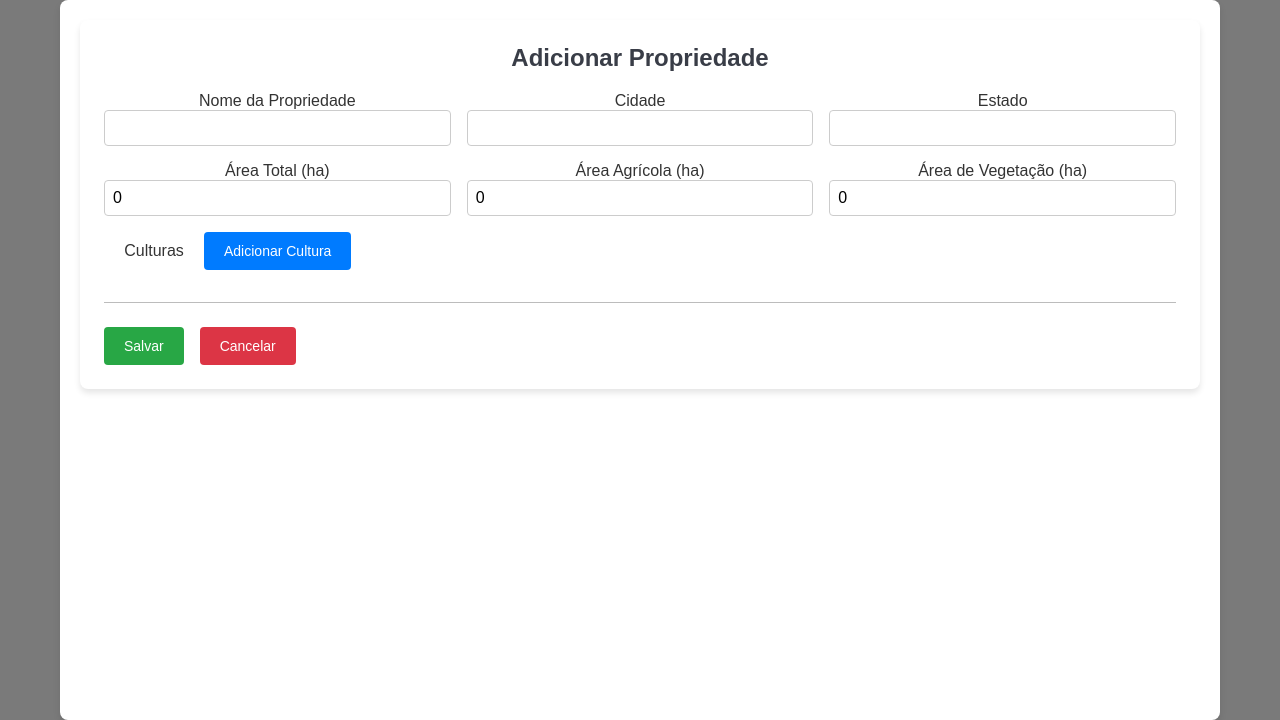
Scenario: ModalAddProperty › deve permitir editar uma cultura na lista
Click the button "Adicionar Cultura".
click(278, 251)  # box [204,232,351,270]
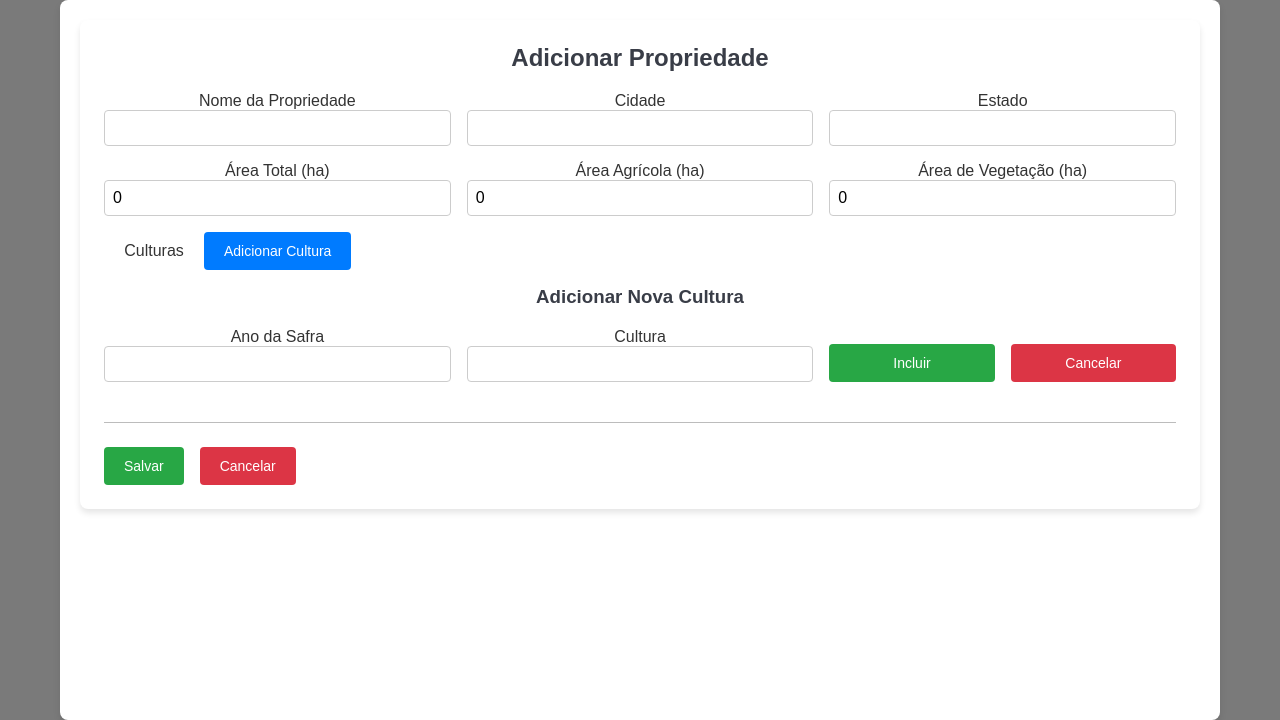
Type "2025" into the field labelled "Ano da Safra".
click(277, 364); type("2025")  # box [104,346,451,382]
Type "Soja" into the field labelled "Cultura".
click(640, 364); type("Soja")  # box [467,346,813,382]
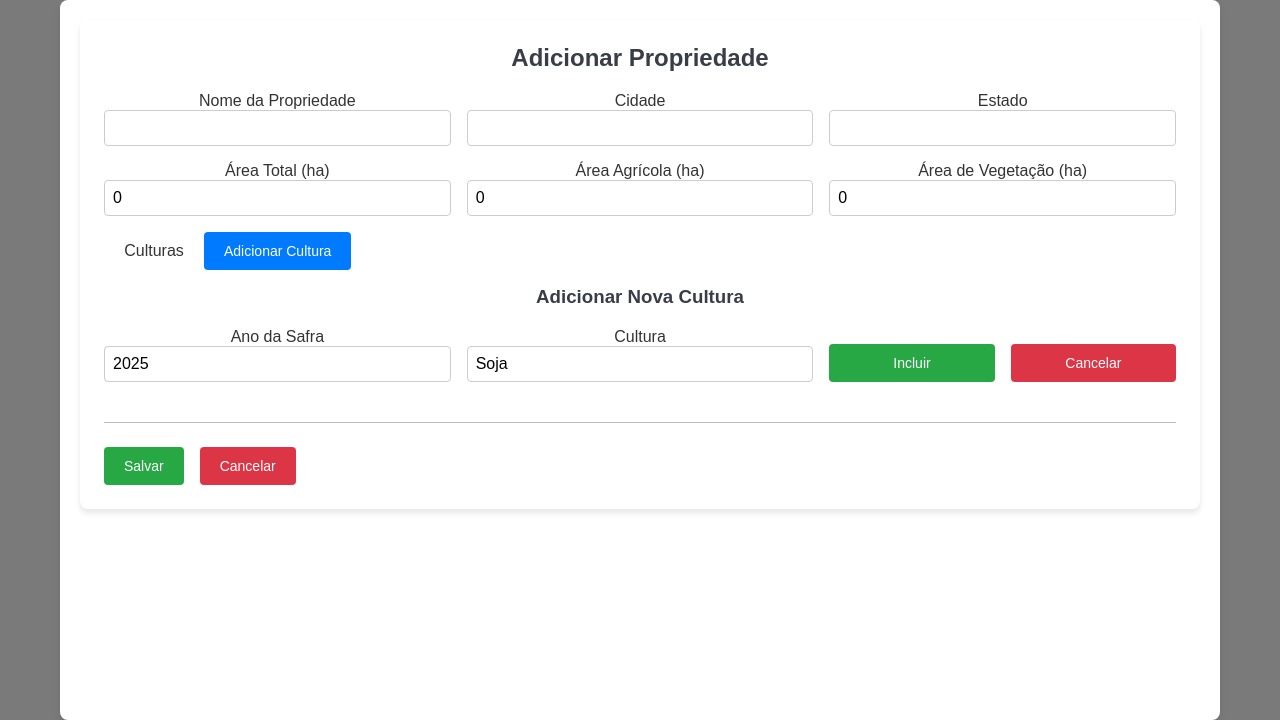
Click the button "Incluir".
click(912, 363)  # box [829,344,995,382]
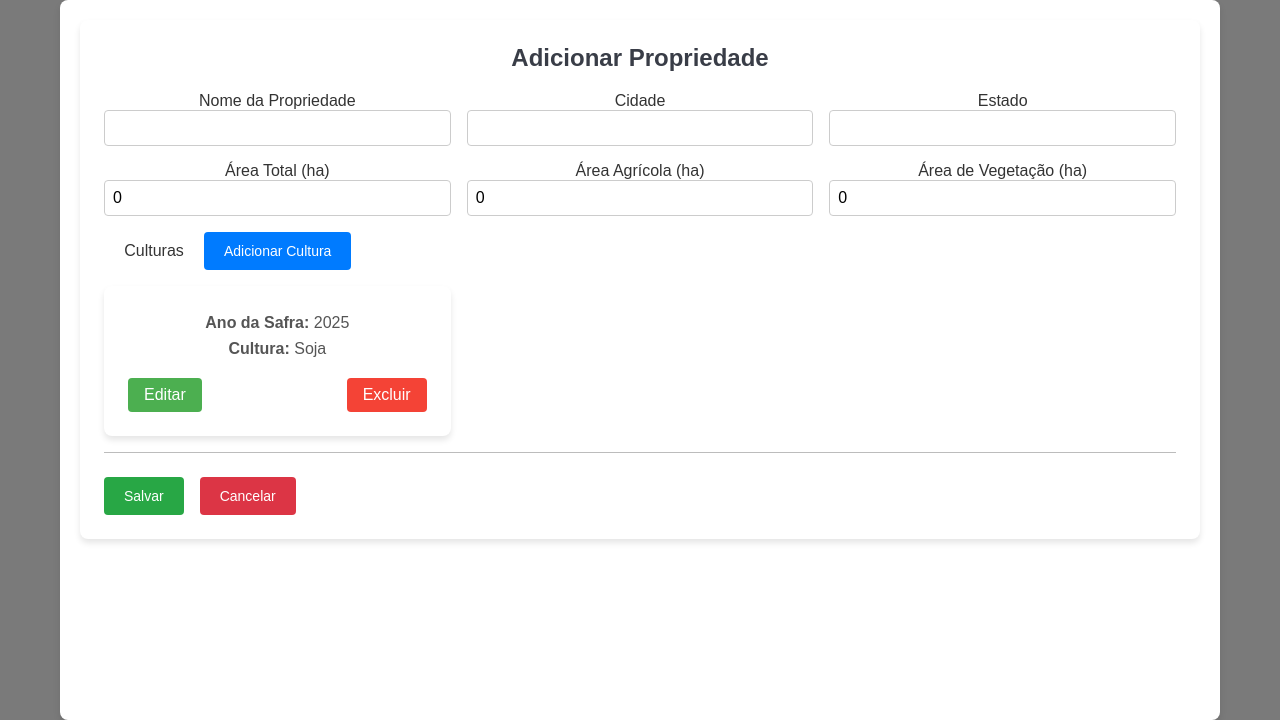
Click the button "Editar".
click(165, 395)  # box [128,378,202,412]
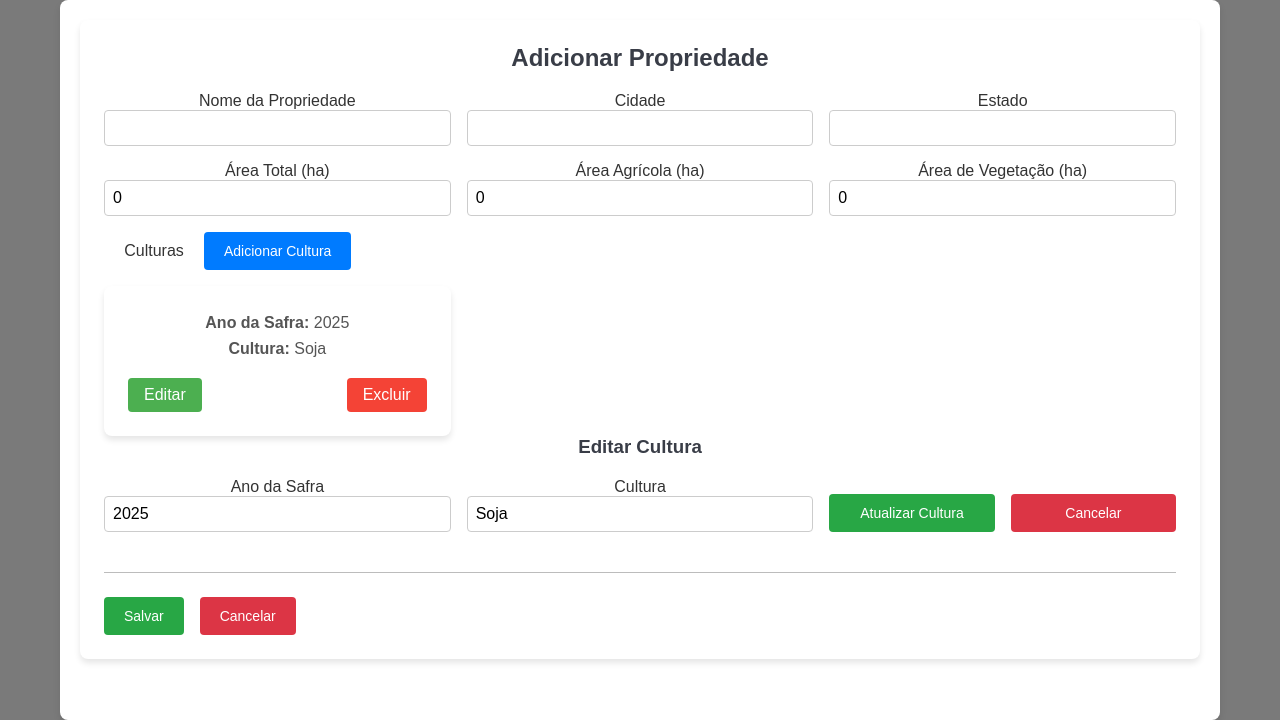
Replace the text in the field labelled "Cultura" with "Milho" at [640, 514], box [467,496,813,532]
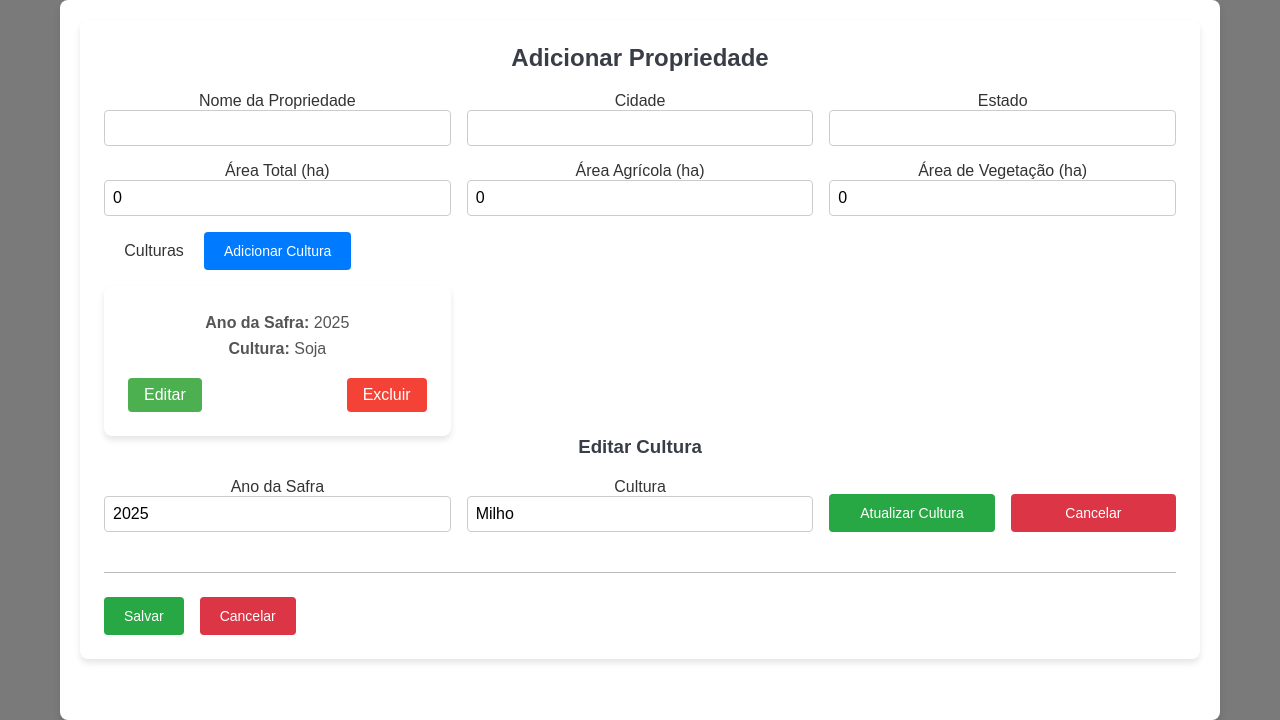
Click the button "Atualizar Cultura".
click(912, 513)  # box [829,494,995,532]
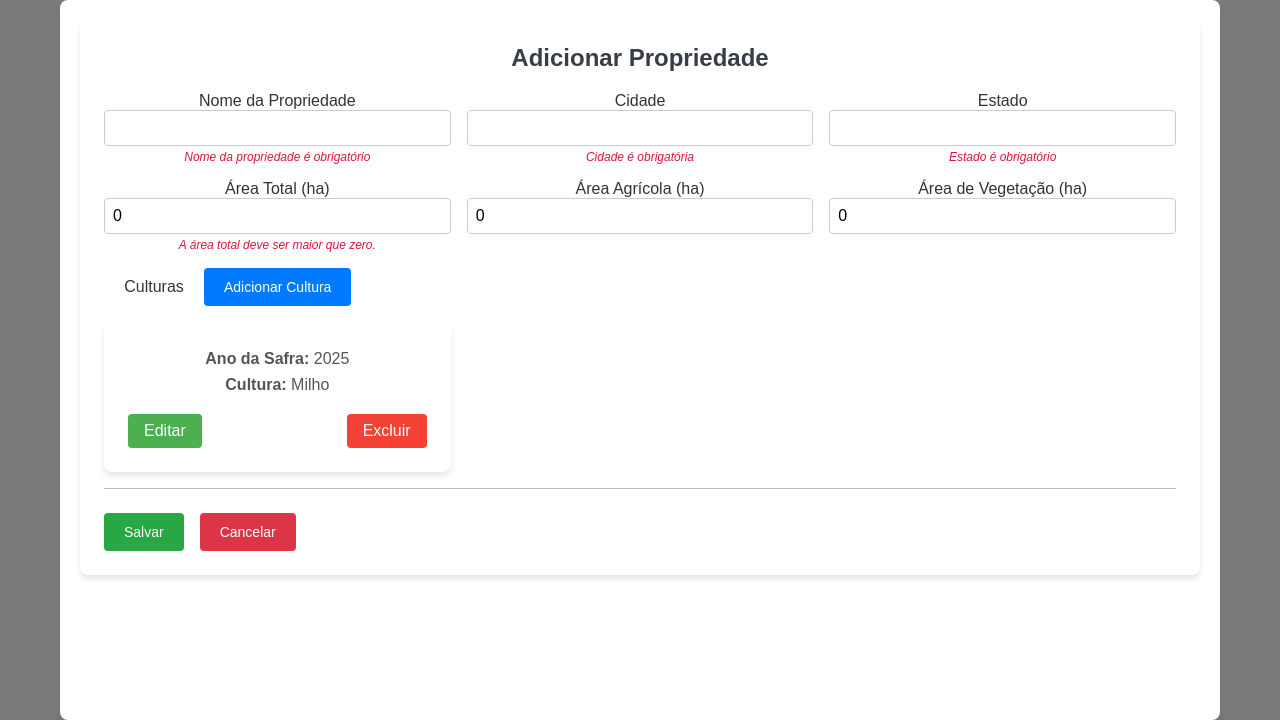
Result: the text "Cultura: Milho" is shown at [225,376,329,394]
